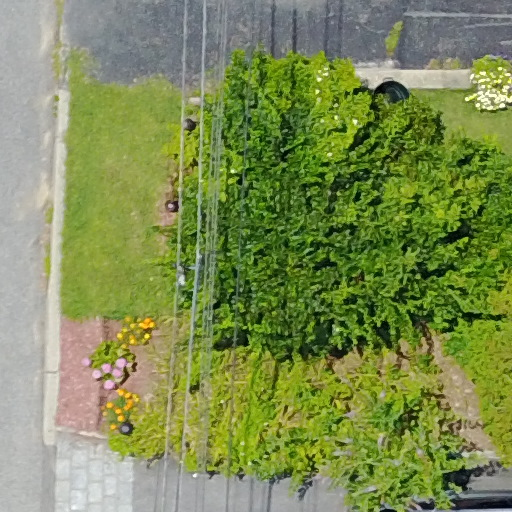container: (374, 73, 414, 110)
